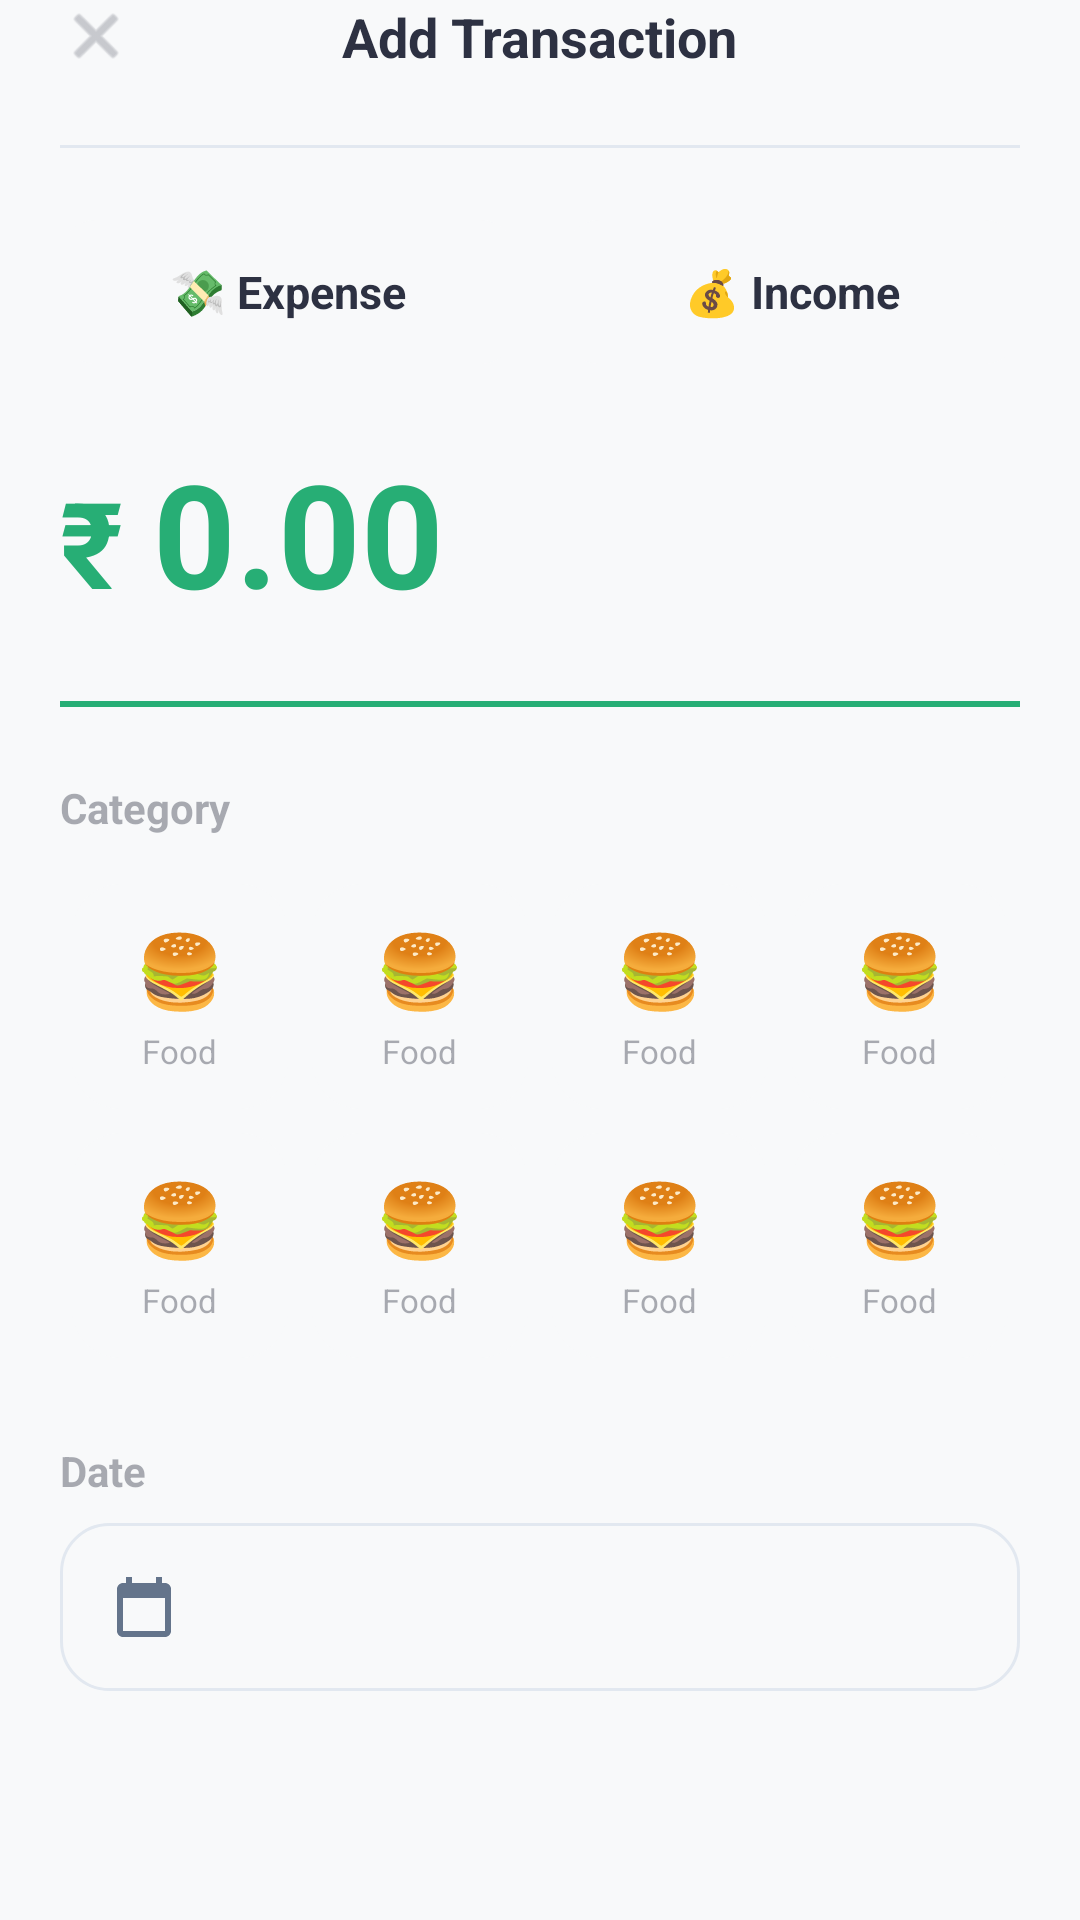

Point at icon controls on the screen. Image size 1080px x 1920px, points as (x,y).
close clear cancel: (96,36)
